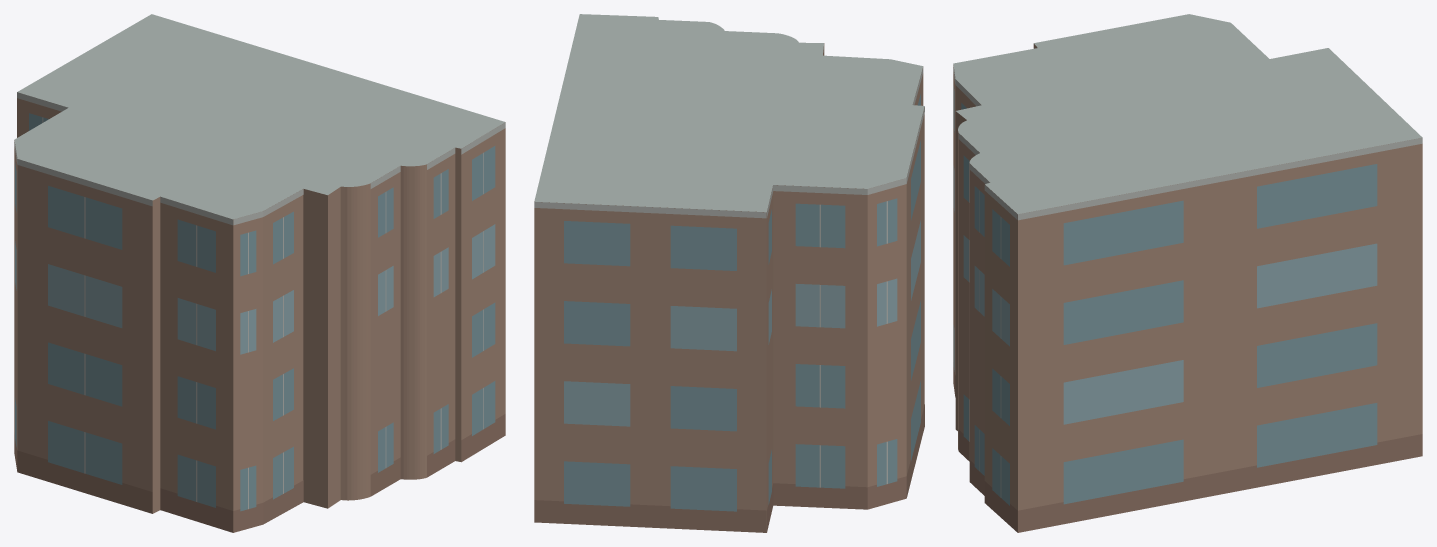
Rendered from survey-upis-33038582.glb.
3 renders of one model, left to right at view 1: azimuth 30°, elevation 25°; view 2: azimuth 150°, elevation 25°; view 3: azimuth 270°, elevation 25°, orthographic. The views are drawn at different scales.
Visible parts, largest first — view 1: survey-upis-33038582.tmp; view 2: survey-upis-33038582.tmp; view 3: survey-upis-33038582.tmp.
Boxes of the visible parts, left/top/right/bottom form: survey-upis-33038582.tmp: left=14, top=14, right=505, bottom=532; survey-upis-33038582.tmp: left=534, top=14, right=924, bottom=532; survey-upis-33038582.tmp: left=953, top=14, right=1422, bottom=532.
Size of the model in its own units: 17.2 by 12.75 by 17.03.
